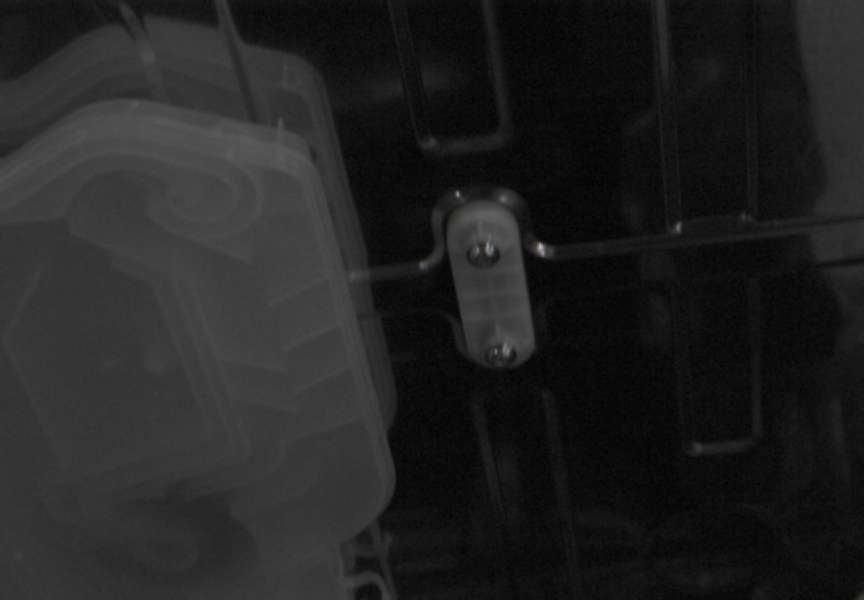screw: (466, 240, 500, 268), (485, 342, 518, 369)
